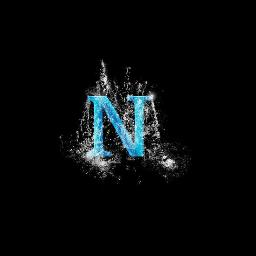n: (80, 86, 156, 170)
